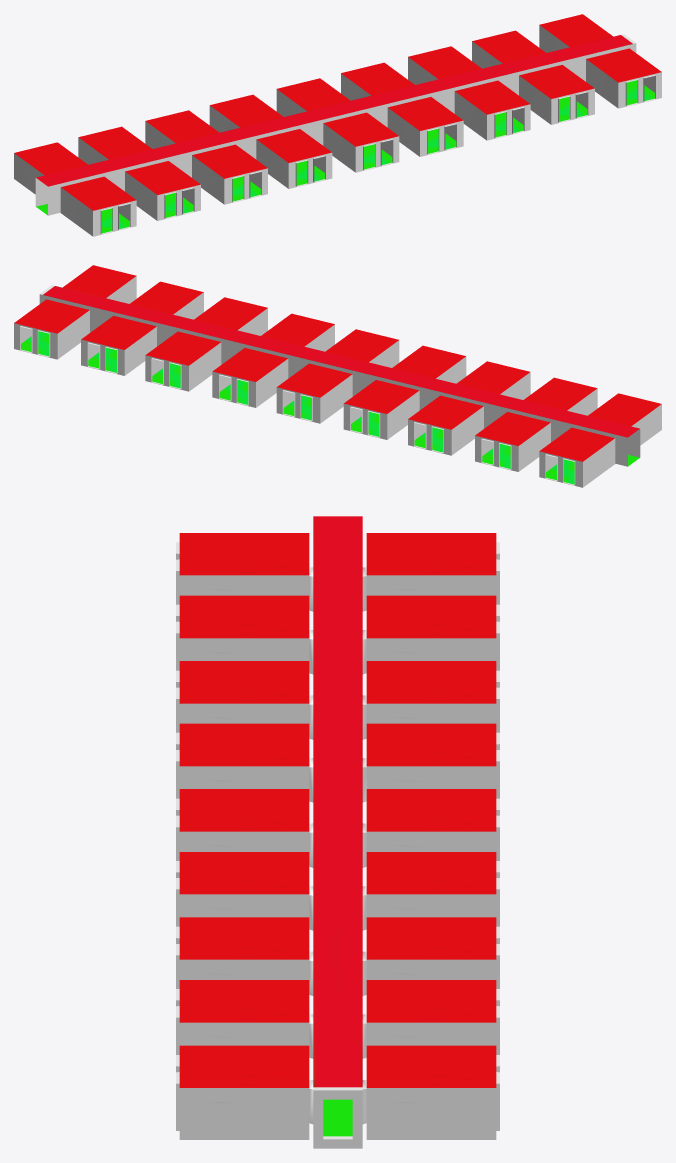
File: hallwaywithoffice2.fbx
3 renders of one model, top to bottom at view 1: azimuth 30°, elevation 25°; view 2: azimuth 150°, elevation 25°; view 3: azimuth 270°, elevation 25°, orthographic. The views are drawn at different scales.
Visible parts, largest first — view 1: Cube.001; view 2: Cube.001; view 3: Cube.001.
Boxes of the visible parts, box(x1,y1,x2,y2) form: Cube.001: box(14, 14, 661, 236); Cube.001: box(14, 265, 661, 487); Cube.001: box(176, 516, 499, 1148).
Size of the model in its own units: 10783 by 509 by 2571.
1 material, 1 textured.
